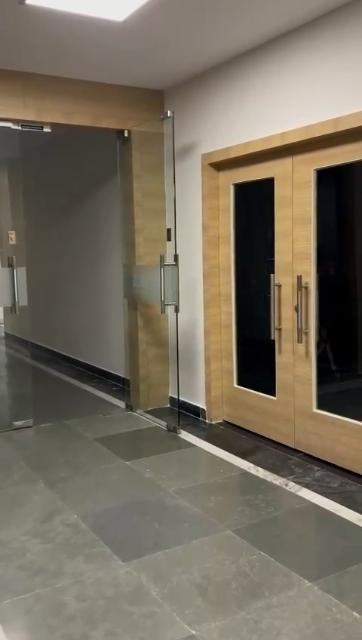door: (196, 148, 361, 450)
floor: (1, 349, 358, 640)
wall: (184, 0, 362, 120), (24, 156, 122, 360)
